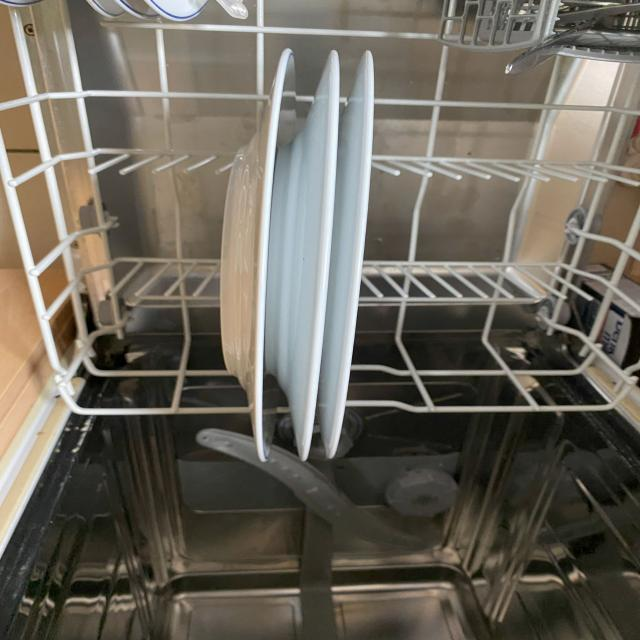empty_slot: (378, 84, 640, 401), (60, 64, 214, 409)
